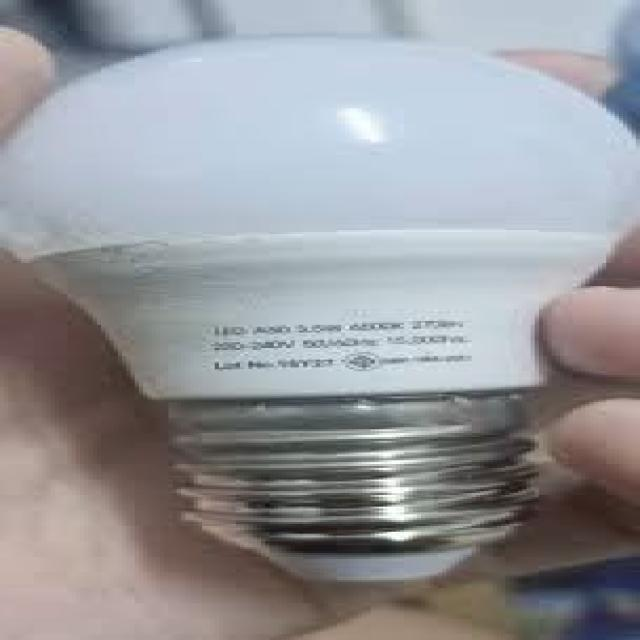bulb: (11, 41, 640, 568)
